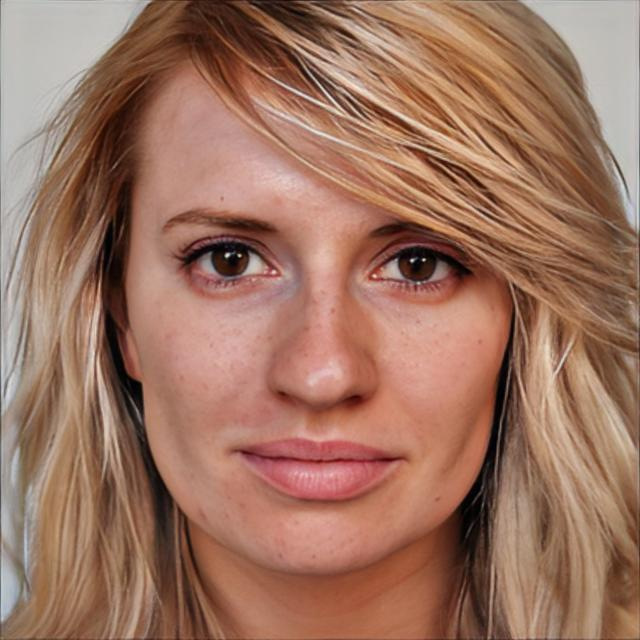content: (126, 36, 514, 580)
